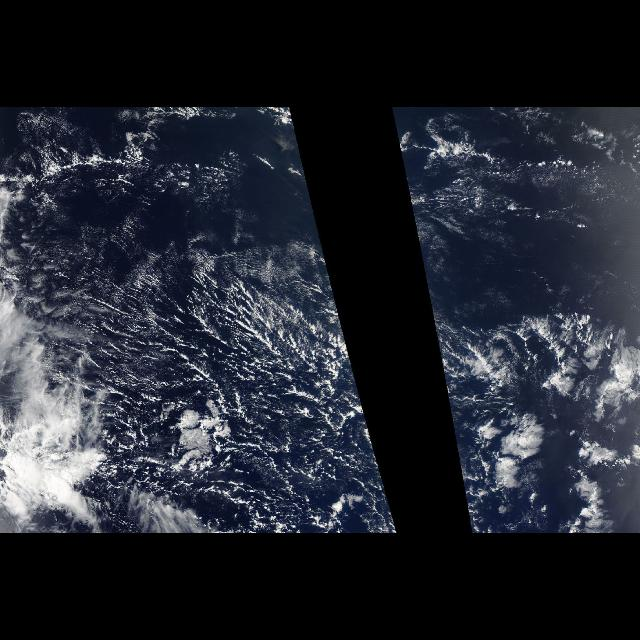Flower: (466, 334, 632, 520)
Sugar: (34, 249, 392, 529), (407, 136, 628, 270)
